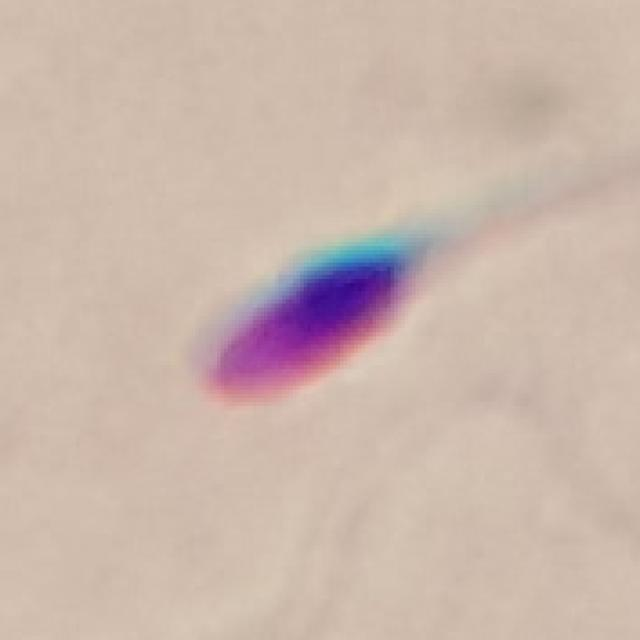abnormal sperm: (211, 198, 516, 407)
